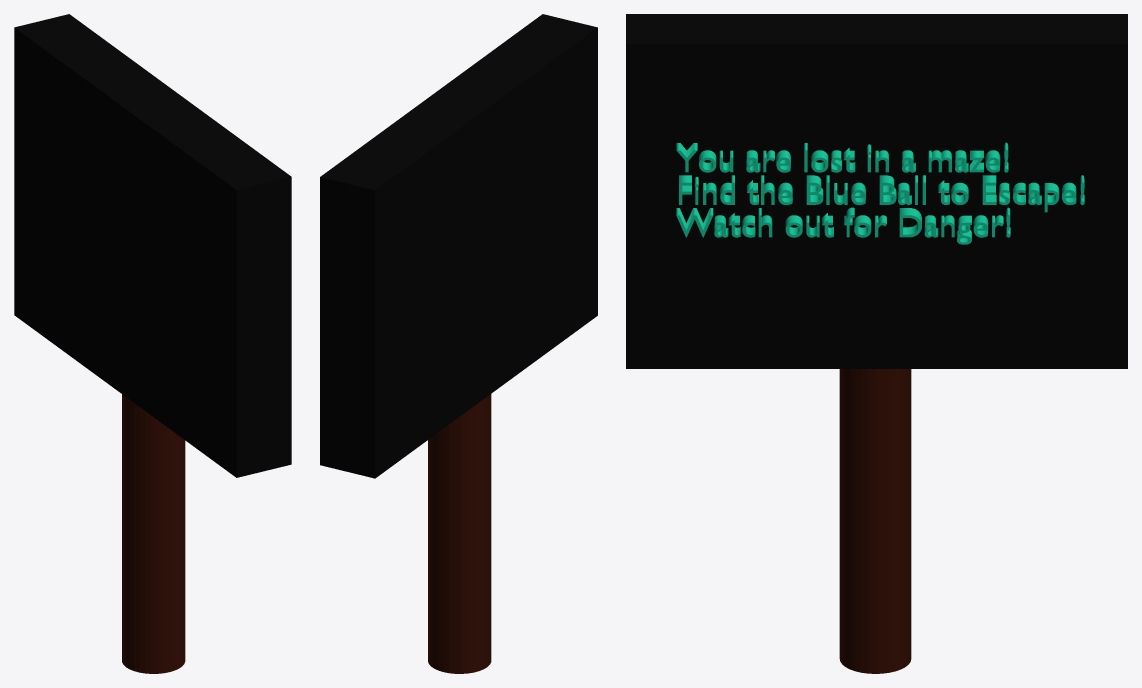
Rendered from Sign.obj.
3 views of the same model, side by side, from view 1: azimuth 30°, elevation 25°; view 2: azimuth 150°, elevation 25°; view 3: azimuth 270°, elevation 25° (orthographic). The views are drawn at different scales.
Visible parts, largest first — view 1: Cube_Cube.004, Cylinder; view 2: Cube_Cube.004, Cylinder; view 3: Cube_Cube.004, Cylinder, Text_Text.002.
Boxes of the visible parts, x1,y1,x2,y2 form: Cube_Cube.004: (14, 14, 291, 477); Cylinder: (122, 394, 185, 673); Cube_Cube.004: (320, 14, 597, 478); Cylinder: (428, 394, 491, 673); Cube_Cube.004: (626, 14, 1127, 368); Cylinder: (839, 369, 911, 673); Text_Text.002: (676, 142, 1084, 244).
Size of the model in its own units: 2.48 by 19.39 by 14.
